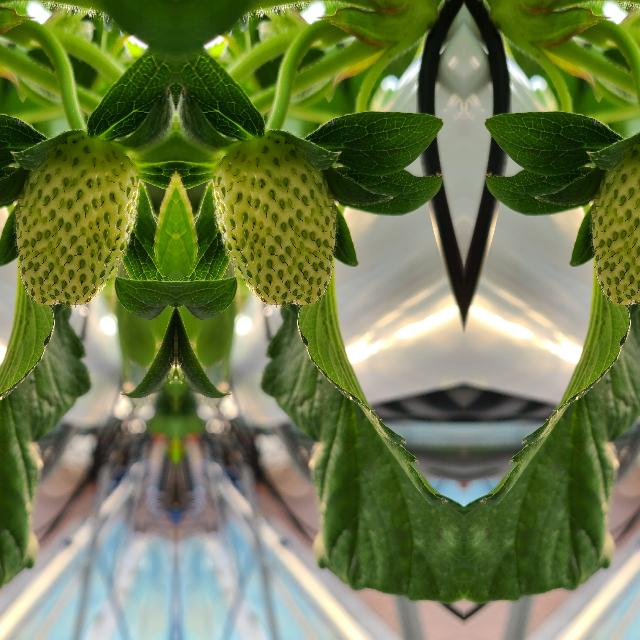Health_25: (210, 137, 338, 309), (12, 137, 140, 309), (588, 137, 640, 309)
